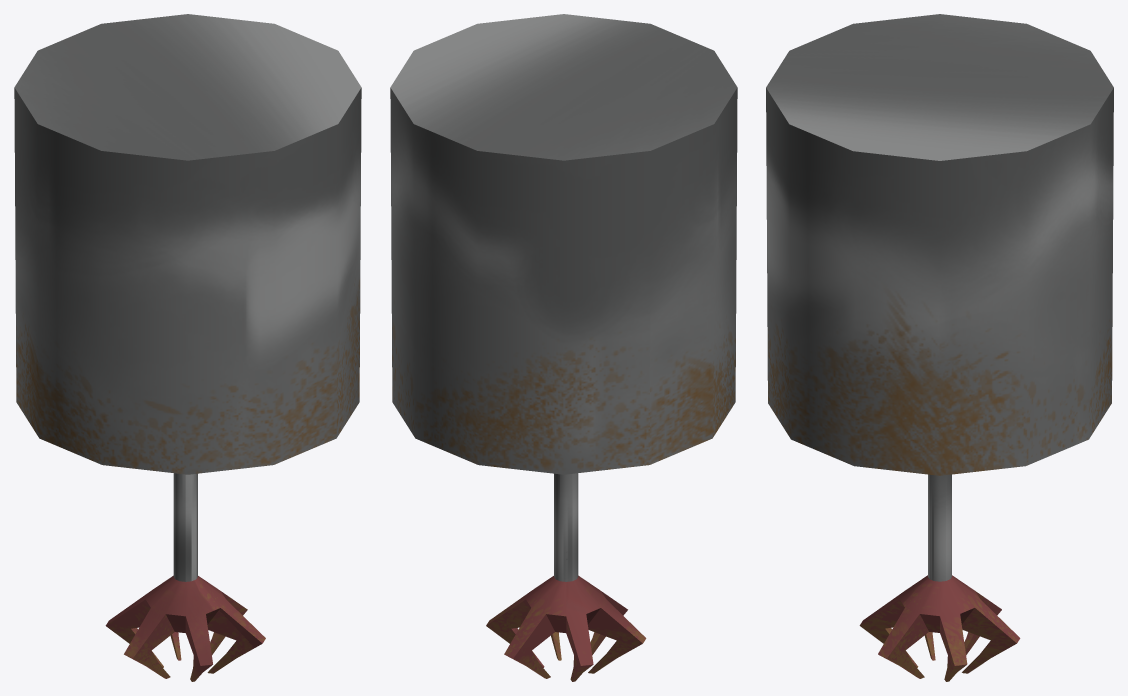
The model's file is Prop_Corpse_Tube.fbx.
The picture shows the model from 3 angles, left to right: view 1: azimuth 30°, elevation 25°; view 2: azimuth 150°, elevation 25°; view 3: azimuth 270°, elevation 25°; orthographic projection.
Visible parts, largest first — view 1: Cylinder.004, Cylinder.010; view 2: Cylinder.004, Cylinder.010; view 3: Cylinder.004, Cylinder.010.
Part boxes in pixels (x1,y1,x2,y2): Cylinder.004: (14,14,361,474); Cylinder.010: (105,473,265,681); Cylinder.004: (390,14,737,474); Cylinder.010: (486,473,646,681); Cylinder.004: (766,14,1113,475); Cylinder.010: (859,474,1020,681).
Bounding box in the file's own units: 151 × 279 × 151.
